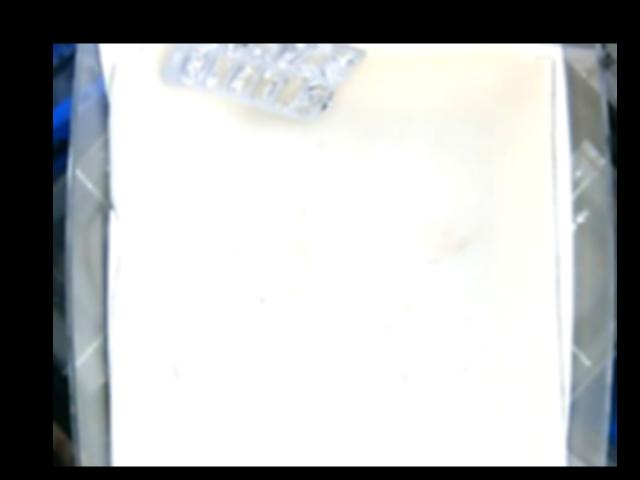Medicine: (159, 44, 364, 121)
